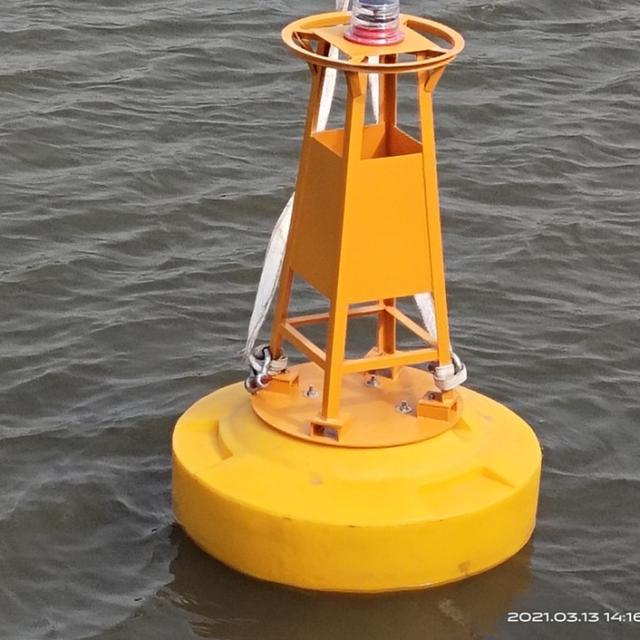buoy: (152, 0, 550, 594)
